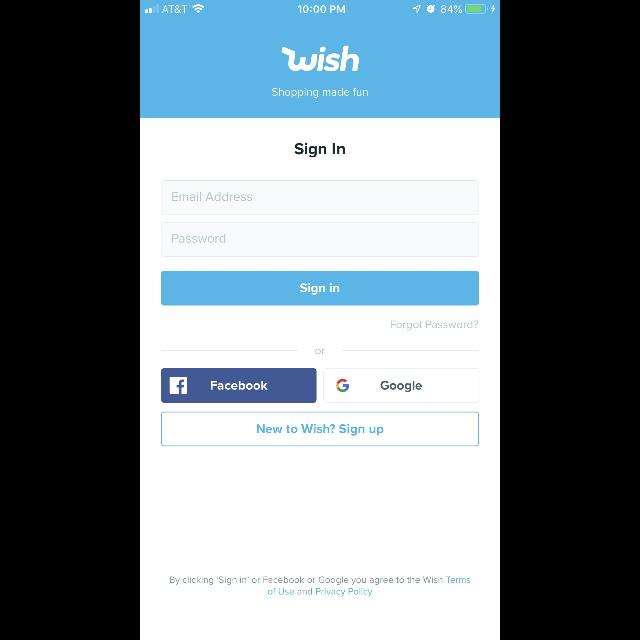image: (282, 46, 358, 72)
input: (161, 222, 479, 258), (161, 180, 479, 216)
text: (170, 576, 470, 596), (272, 88, 368, 98), (390, 321, 478, 331), (172, 192, 252, 202), (295, 142, 345, 158), (172, 234, 225, 243), (316, 349, 324, 355)
textbutton: (161, 270, 479, 306), (161, 412, 479, 446), (324, 369, 478, 403), (162, 369, 316, 403)
uppertaskbar: (140, 0, 500, 14)
